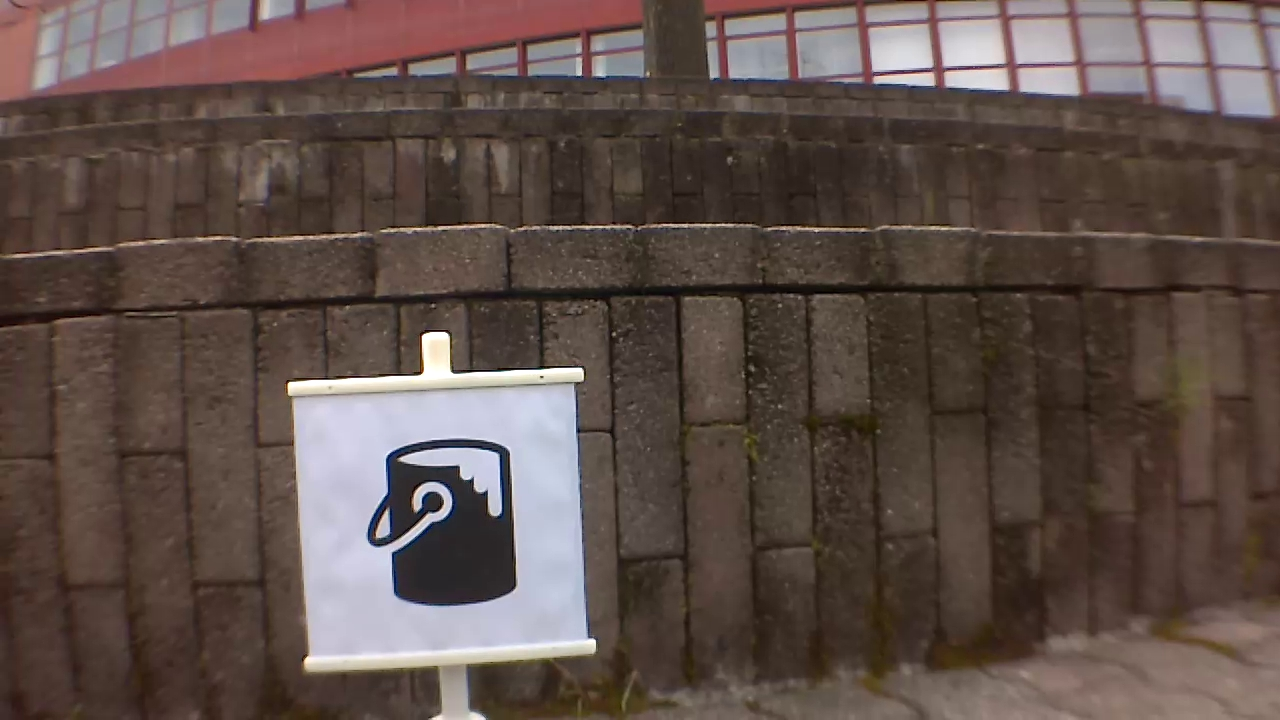bucket: (368, 437, 517, 614)
